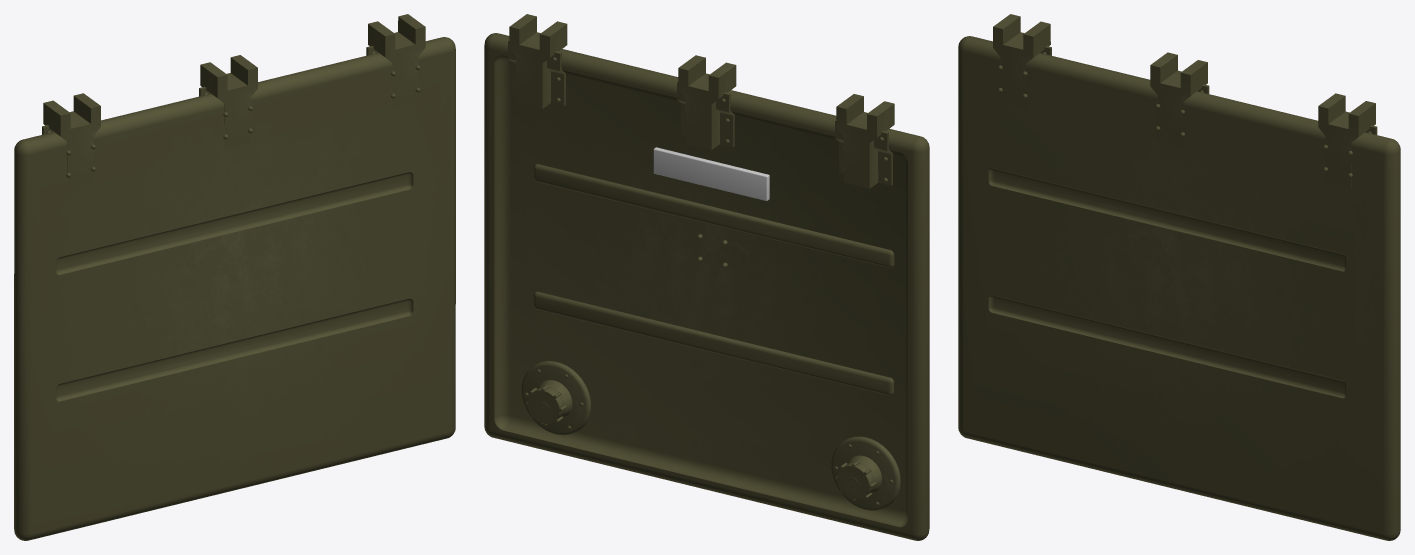
The model's file is Cap_of_PPO_big.glb.
The picture shows the model from 3 angles, left to right: view 1: azimuth 30°, elevation 25°; view 2: azimuth 150°, elevation 25°; view 3: azimuth 330°, elevation 25°; orthographic projection.
Visible parts, largest first — view 1: bbase; view 2: bbase; view 3: bbase.
Part boxes in pixels (x1=…): bbase: x1=14, y1=14, x2=455, y2=540; bbase: x1=484, y1=14, x2=929, y2=540; bbase: x1=958, y1=14, x2=1400, y2=540.
Size of the model in its own units: 0.4371 by 0.4014 by 0.0349.
2 materials, 1 textured.
